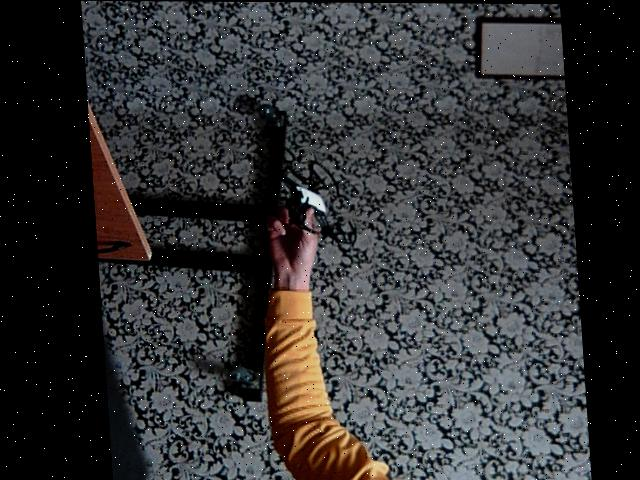drone: (268, 149, 353, 254)
